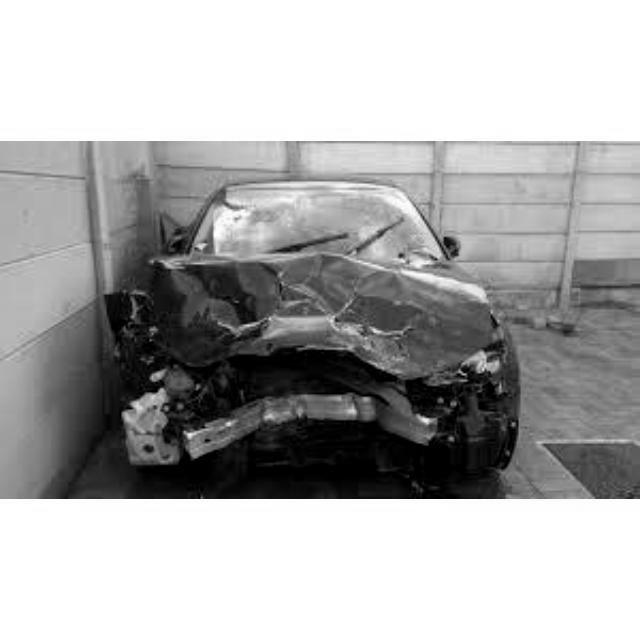Front-windscreen-damage: (196, 191, 422, 250)
bonnet-dent: (137, 248, 442, 363)
front-bumper-dent: (189, 370, 410, 461)
